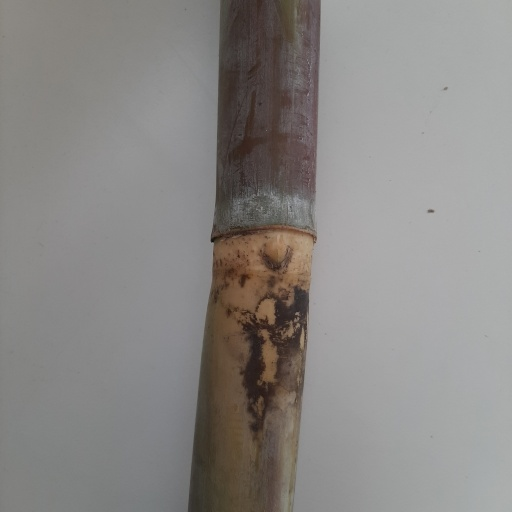Bud: (264, 231, 290, 270)
